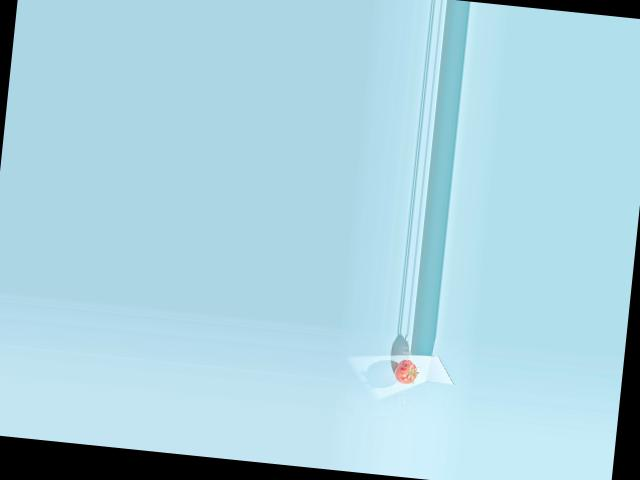tomato: (393, 358, 418, 384)
